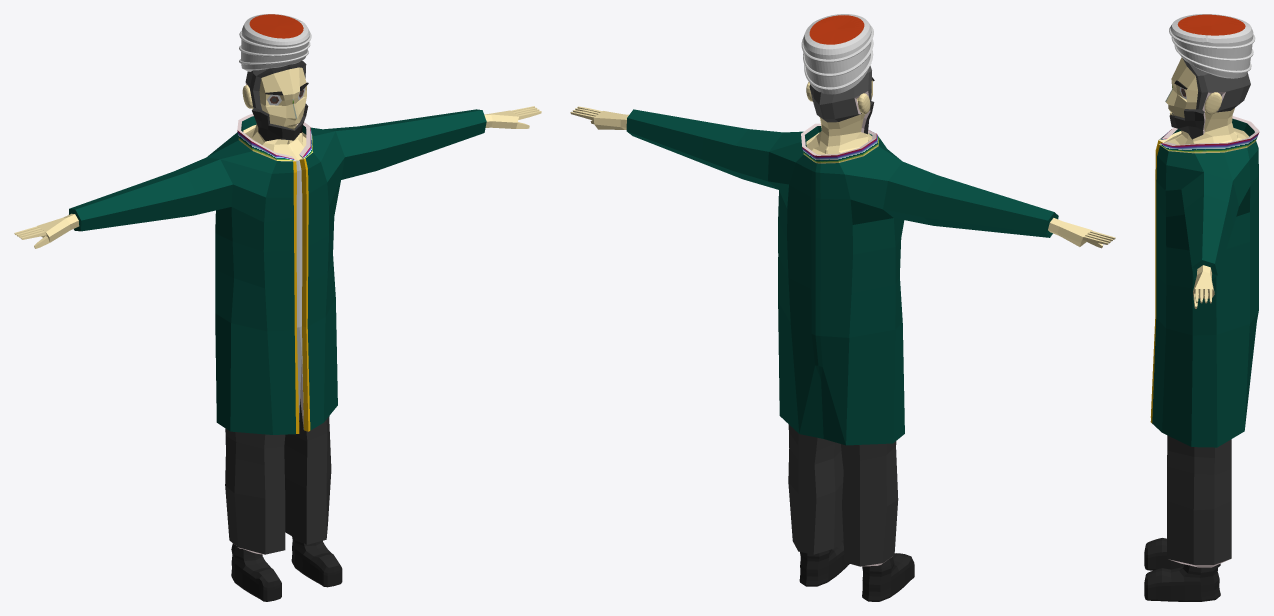
The model's file is Imam.fbx.
3 views of the same model, side by side, from view 1: azimuth 30°, elevation 25°; view 2: azimuth 150°, elevation 25°; view 3: azimuth 270°, elevation 25° (orthographic). The views are drawn at different scales.
Visible parts, largest first — view 1: Plane; view 2: Plane; view 3: Plane.
Boxes of the visible parts, box(x1,y1,x2,y2) form: Plane: box(14, 14, 541, 601); Plane: box(570, 14, 1115, 601); Plane: box(1144, 14, 1259, 601).
Bounding box in the file's own units: 1928 × 1925 × 360.
Materials: 2 (2 with a texture image).
